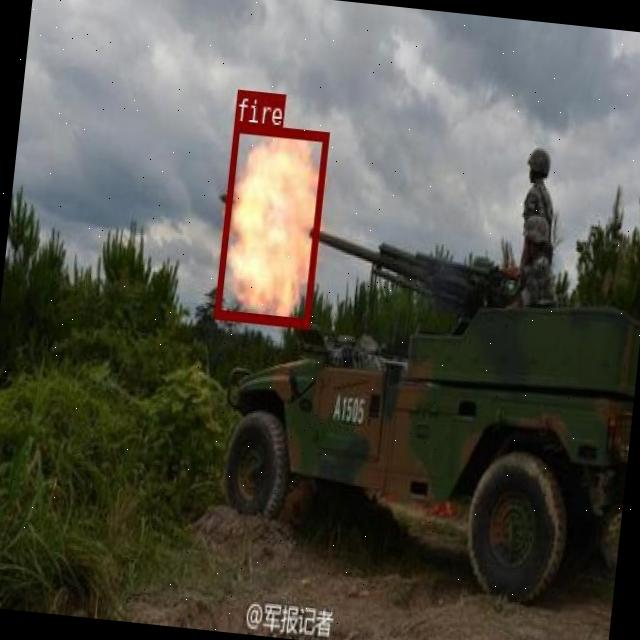fire: (214, 121, 328, 326)
